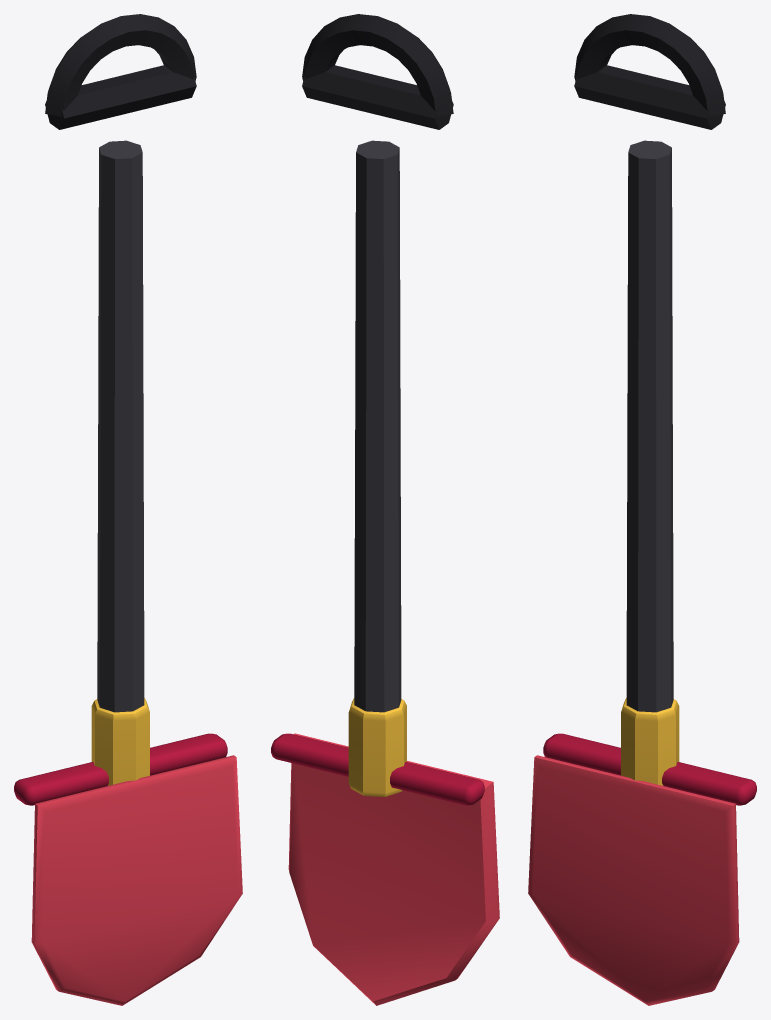
The model's file is RubyShovel.fbx.
The picture shows the model from 3 angles, left to right: view 1: azimuth 30°, elevation 25°; view 2: azimuth 150°, elevation 25°; view 3: azimuth 330°, elevation 25°; orthographic projection.
Parts seen in each view (by area): view 1: RubyShovel; view 2: RubyShovel; view 3: RubyShovel.
Boxes of the visible parts, x1,y1,x2,y2 form: RubyShovel: (14, 14, 242, 1005); RubyShovel: (271, 14, 499, 1005); RubyShovel: (528, 14, 756, 1005).
Size of the model in its own units: 0.88 by 3.99 by 0.2516.
1 material, 1 textured.
